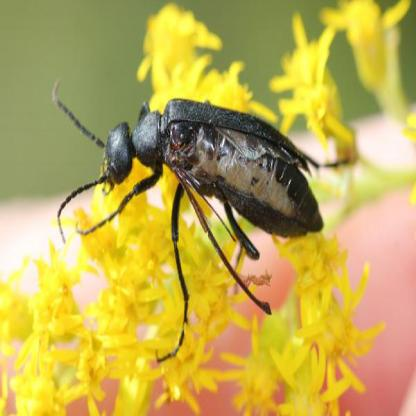beetle: (45, 71, 316, 371)
